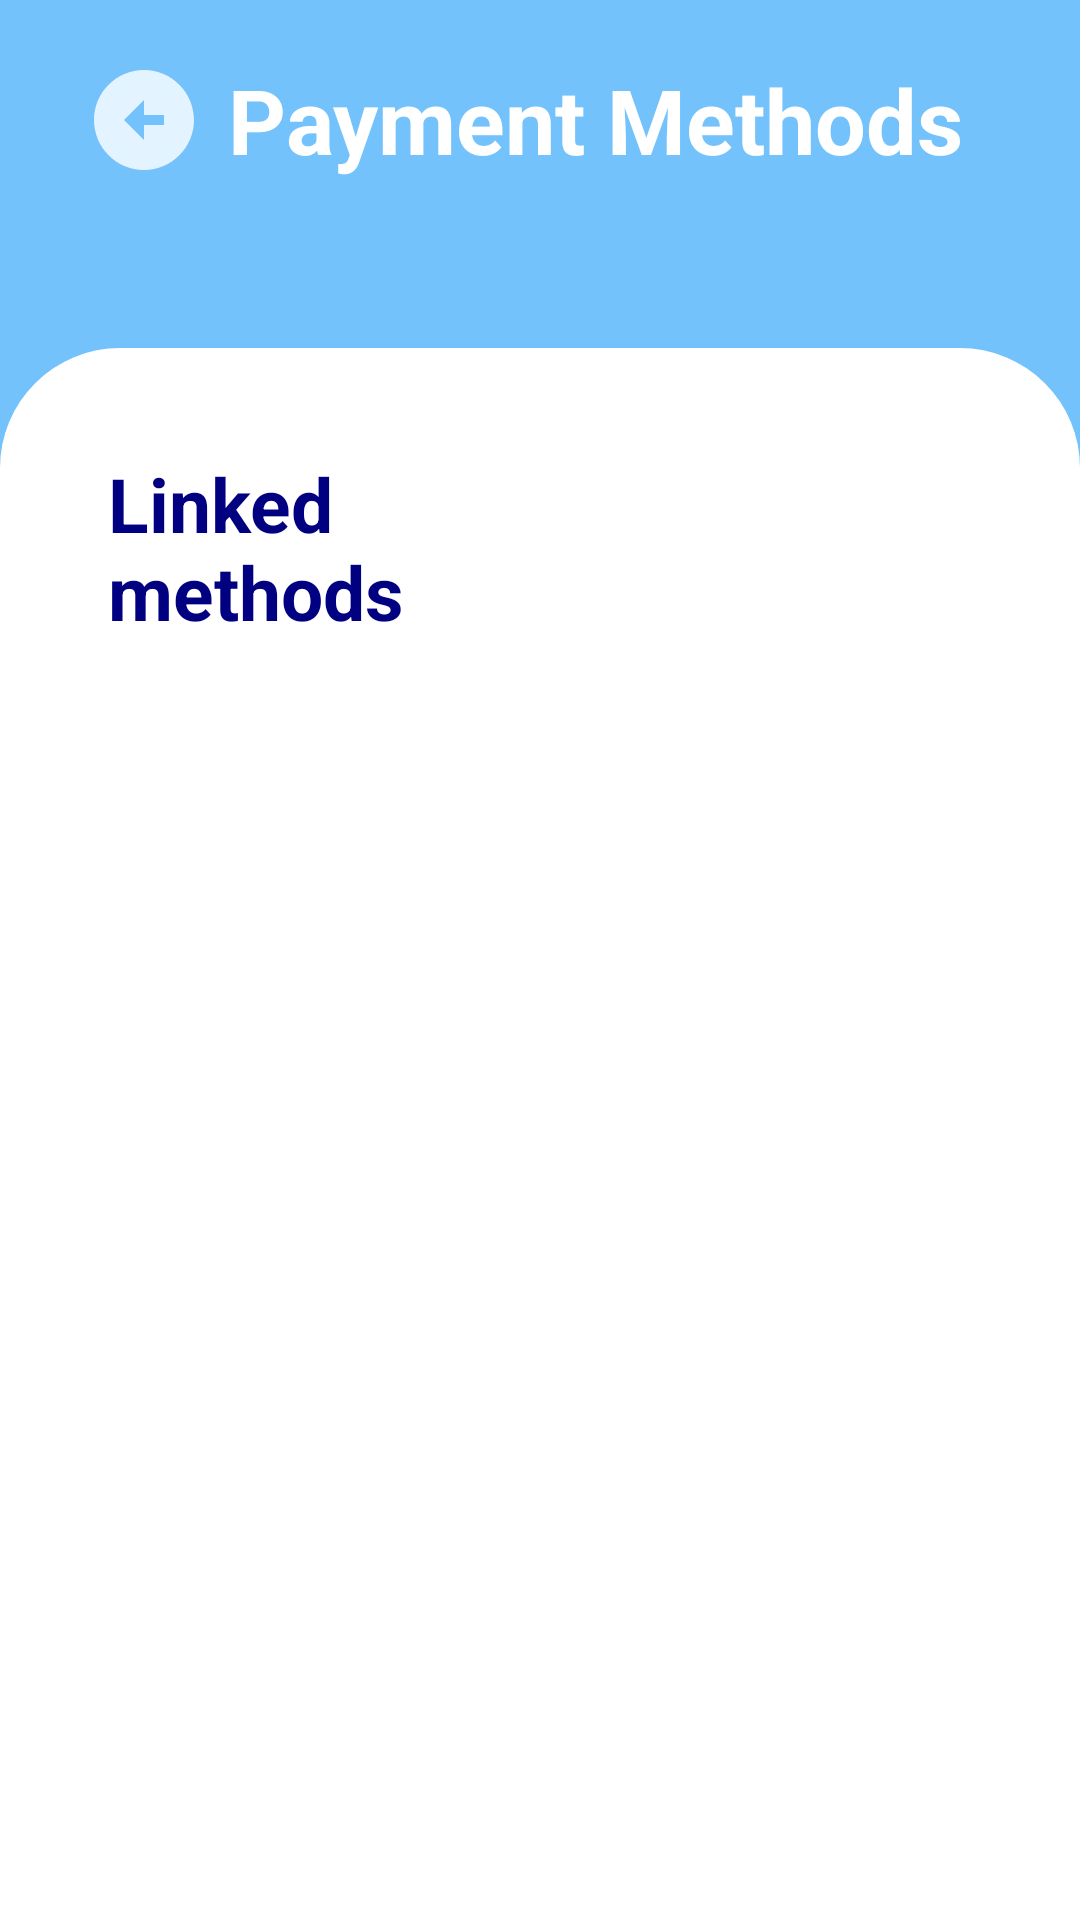

Locate icon controls on the screen. Image size 1080x1920, boxes as (x1, y1, x2, y2).
back: (94, 70, 194, 170)
